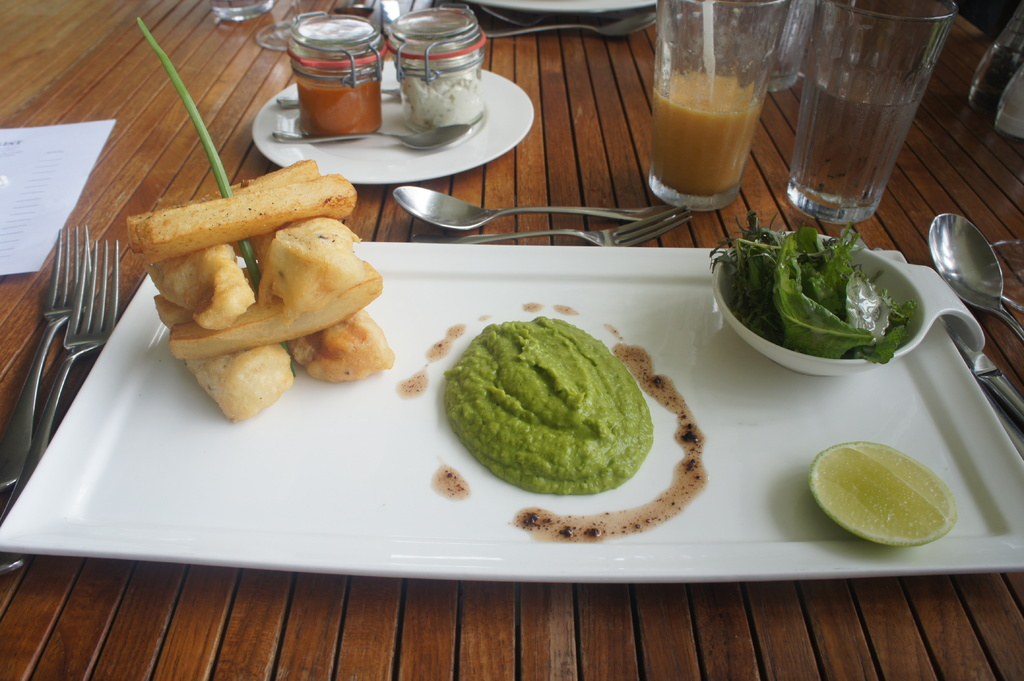French fries: (120, 163, 392, 421), (137, 172, 359, 257)
